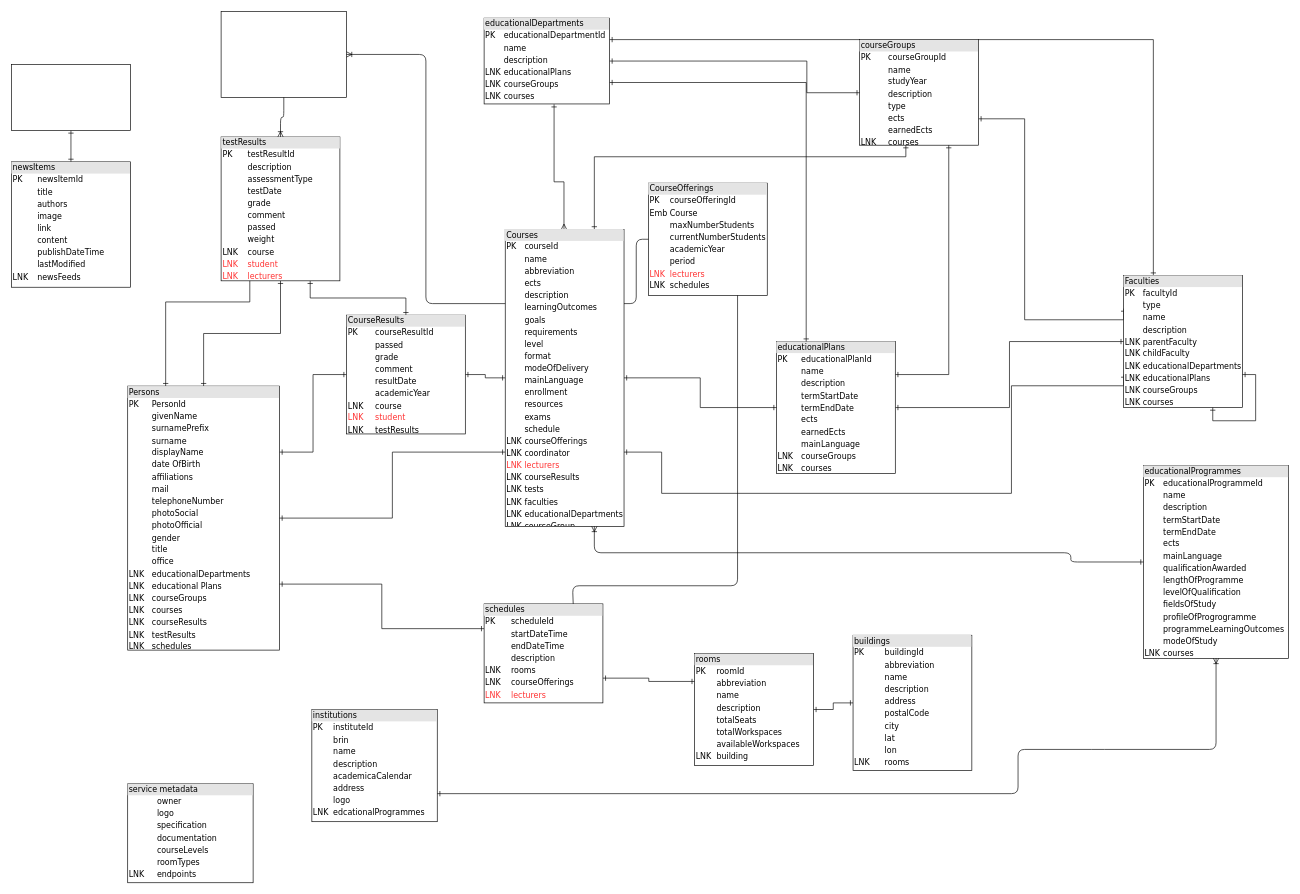
This 1300x894 diagram has some shape labels left out. The centre of each missing label's shape, as x and y in pixels:
newsfeeds PK newsFeedId title description LNK newsItems: the point at 70,97
tests PK testId name description LNK schedule LNK course: the point at 283,54
